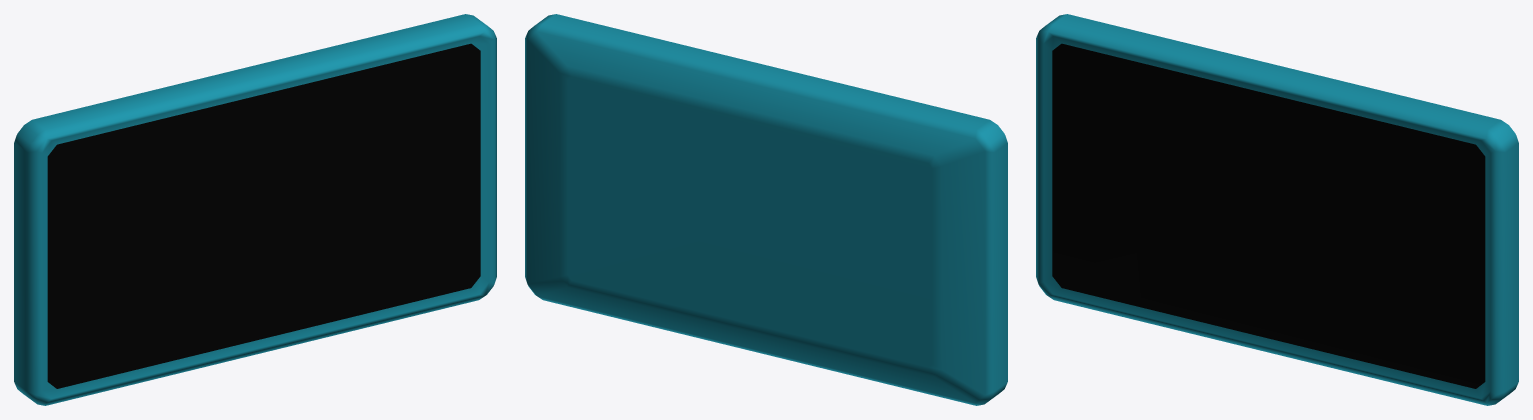
File: TVScreenGeo.fbx
3 renders of one model, left to right at view 1: azimuth 30°, elevation 25°; view 2: azimuth 150°, elevation 25°; view 3: azimuth 330°, elevation 25°, orthographic.
Visible parts, largest first — view 1: TVScreenGeo; view 2: TVScreenGeo; view 3: TVScreenGeo.
Part boxes in pixels (x1,y1,x2,y2): TVScreenGeo: (14, 14, 496, 405); TVScreenGeo: (525, 14, 1007, 405); TVScreenGeo: (1036, 14, 1518, 405).
Bounding box in the file's own units: 325 × 183 × 31.88.
